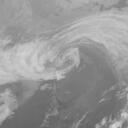cyclone: (16, 15, 105, 81)
